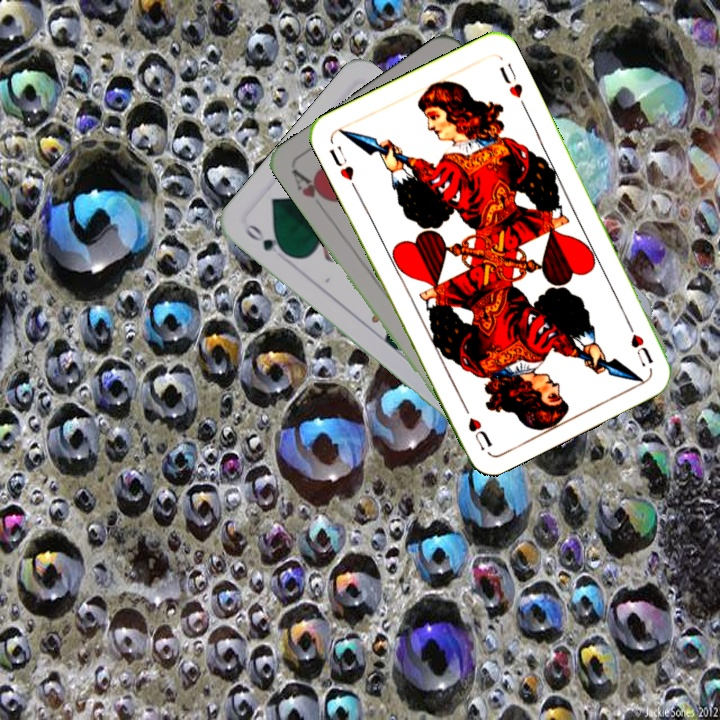GO: (240, 220, 293, 259)
HA: (288, 165, 335, 207)
HU: (325, 141, 360, 193), (622, 315, 656, 368)
